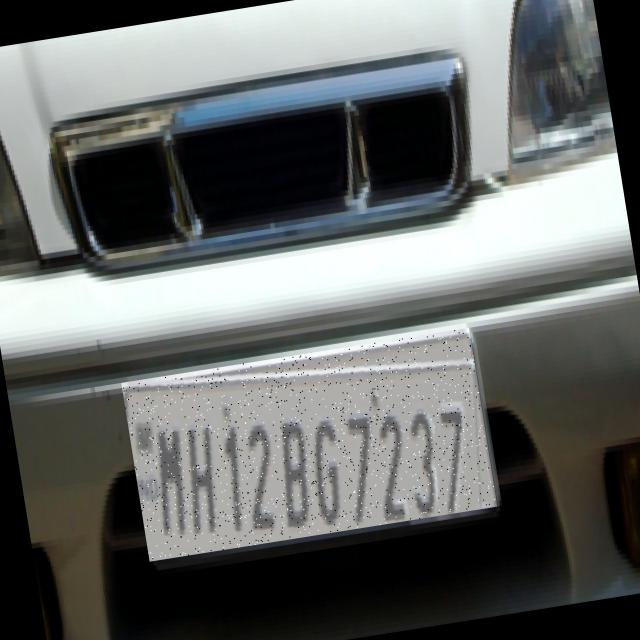Plate: (123, 329, 499, 563)
